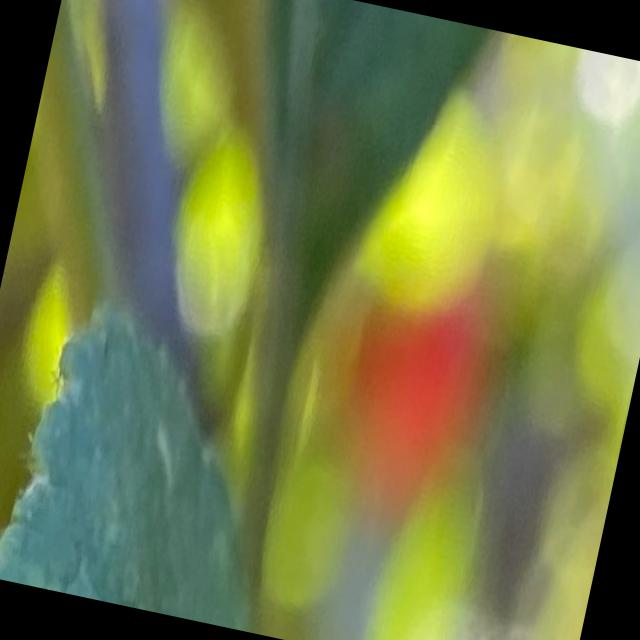Apples: (329, 248, 498, 491)
